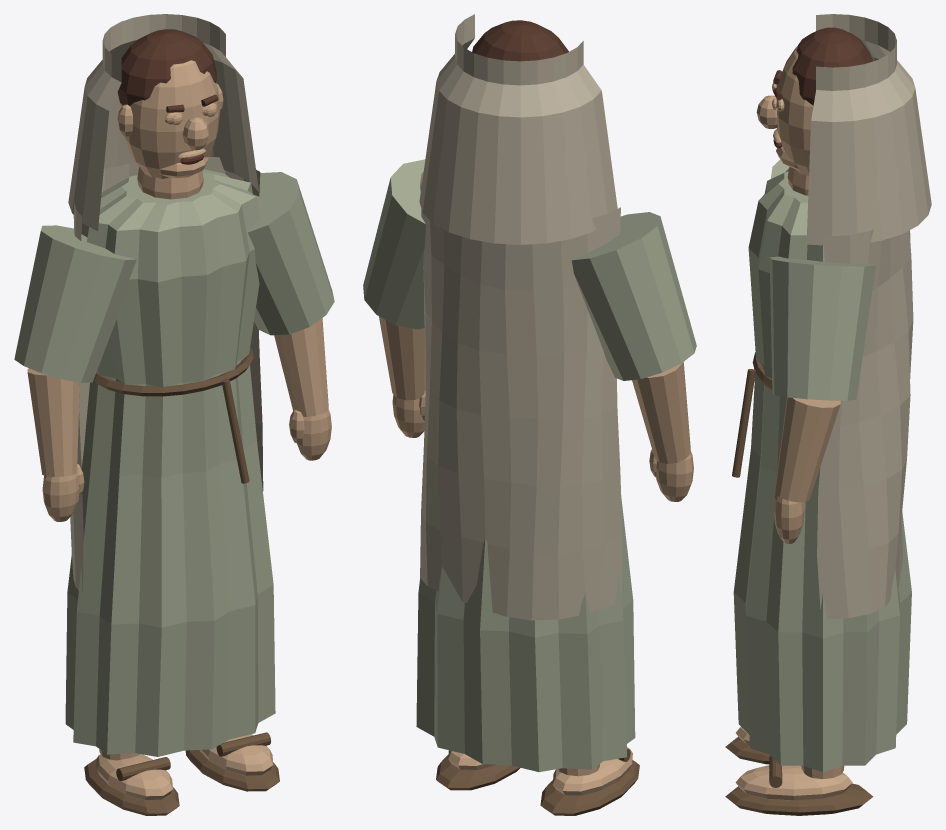
Rendered from listener-sage.glb.
3 renders of one model, left to right at view 1: azimuth 30°, elevation 25°; view 2: azimuth 150°, elevation 25°; view 3: azimuth 270°, elevation 25°, orthographic. The views are drawn at different scales.
Parts seen in each view (by area): view 1: listener-sage_torso_mesh, listener-sage_head_mesh, listener-sage_arm_left_mesh, listener-sage_arm_right_mesh, listener-sage_forearm_left_mesh, listener-sage_forearm_right_mesh, listener-sage_foot_left_mesh, listener-sage_foot_right_mesh; view 2: listener-sage_torso_mesh, listener-sage_head_mesh, listener-sage_arm_left_mesh, listener-sage_arm_right_mesh, listener-sage_forearm_left_mesh, listener-sage_forearm_right_mesh, listener-sage_foot_left_mesh, listener-sage_foot_right_mesh; view 3: listener-sage_torso_mesh, listener-sage_head_mesh, listener-sage_arm_right_mesh, listener-sage_forearm_right_mesh, listener-sage_foot_right_mesh, listener-sage_foot_left_mesh.
Part boxes in pixels (x1=…): listener-sage_torso_mesh: x1=65, y1=156, x2=275, y2=756; listener-sage_head_mesh: x1=68, y1=14, x2=258, y2=231; listener-sage_arm_left_mesh: x1=14, y1=225, x2=136, y2=382; listener-sage_arm_right_mesh: x1=247, y1=172, x2=334, y2=335; listener-sage_forearm_left_mesh: x1=27, y1=368, x2=84, y2=521; listener-sage_forearm_right_mesh: x1=274, y1=318, x2=331, y2=460; listener-sage_foot_left_mesh: x1=84, y1=754, x2=179, y2=815; listener-sage_foot_right_mesh: x1=185, y1=732, x2=279, y2=791; listener-sage_torso_mesh: x1=416, y1=172, x2=635, y2=772; listener-sage_head_mesh: x1=419, y1=14, x2=617, y2=244; listener-sage_arm_left_mesh: x1=571, y1=212, x2=696, y2=380; listener-sage_arm_right_mesh: x1=363, y1=159, x2=425, y2=329; listener-sage_forearm_left_mesh: x1=632, y1=362, x2=693, y2=501; listener-sage_forearm_right_mesh: x1=379, y1=316, x2=425, y2=437; listener-sage_foot_left_mesh: x1=540, y1=747, x2=639, y2=815; listener-sage_foot_right_mesh: x1=436, y1=750, x2=520, y2=790; listener-sage_torso_mesh: x1=732, y1=167, x2=913, y2=771; listener-sage_head_mesh: x1=756, y1=14, x2=931, y2=245; listener-sage_arm_right_mesh: x1=769, y1=256, x2=875, y2=400; listener-sage_forearm_right_mesh: x1=773, y1=397, x2=840, y2=543; listener-sage_foot_right_mesh: x1=725, y1=755, x2=873, y2=815; listener-sage_foot_left_mesh: x1=725, y1=727, x2=769, y2=764.
Size of the model in its own units: 0.7689 by 1.76 by 0.44.
